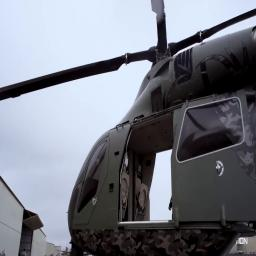helicopter: (40, 22, 256, 253)
